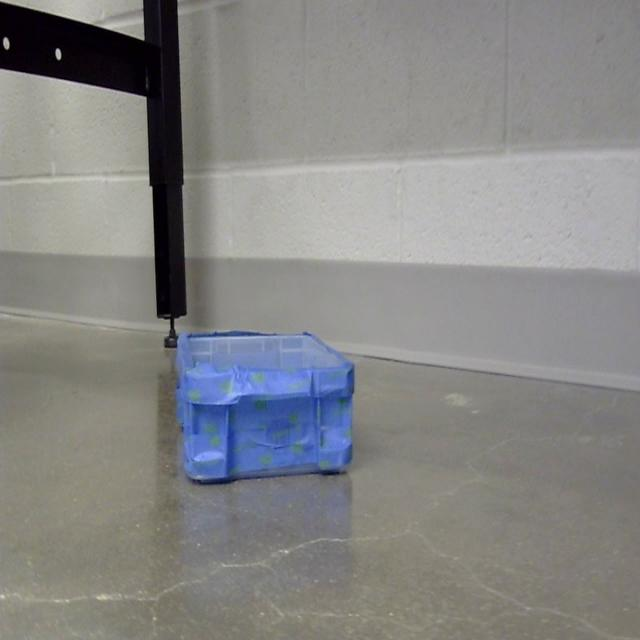bucket: (175, 332, 356, 486)
